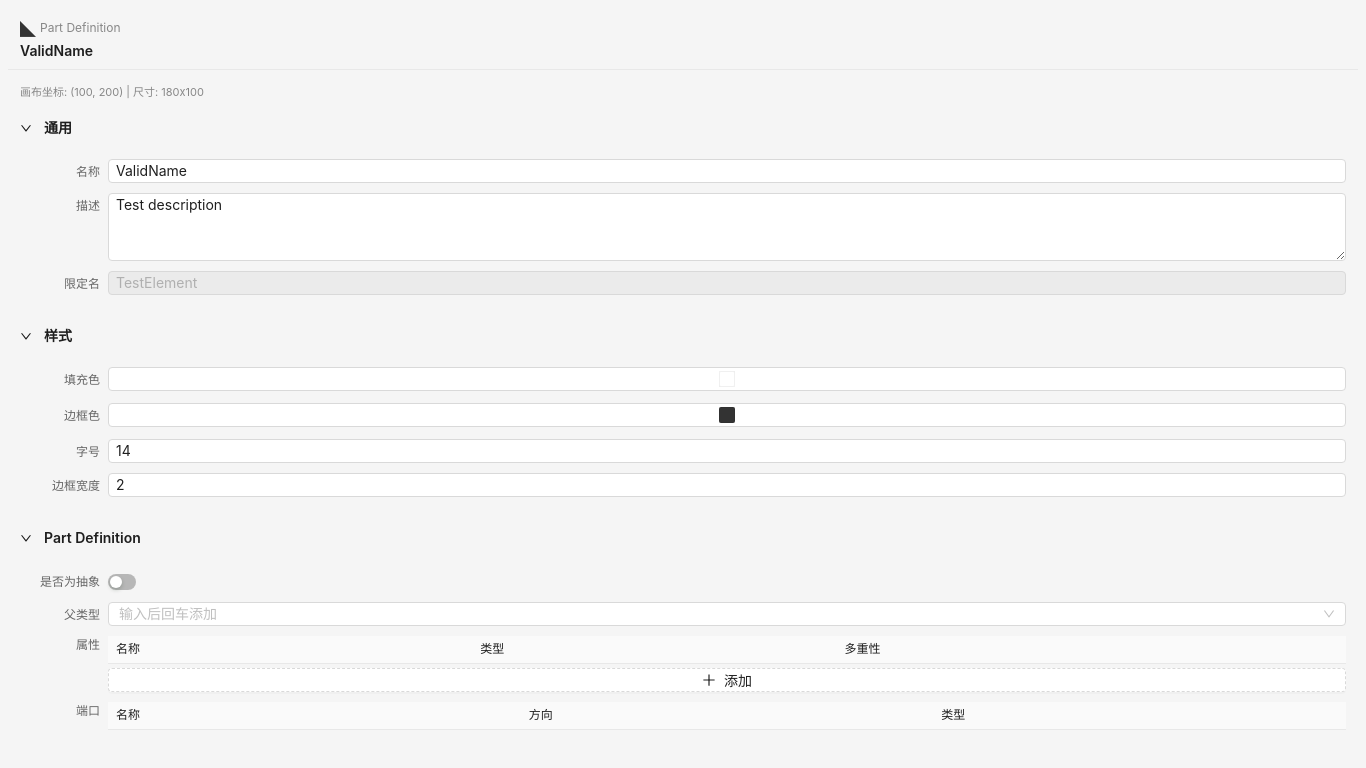
Test: Form Validation › 6.1 empty name should show error
Clear the 1st field showing "ValidName" at [727, 171], box [108, 159, 1346, 183]
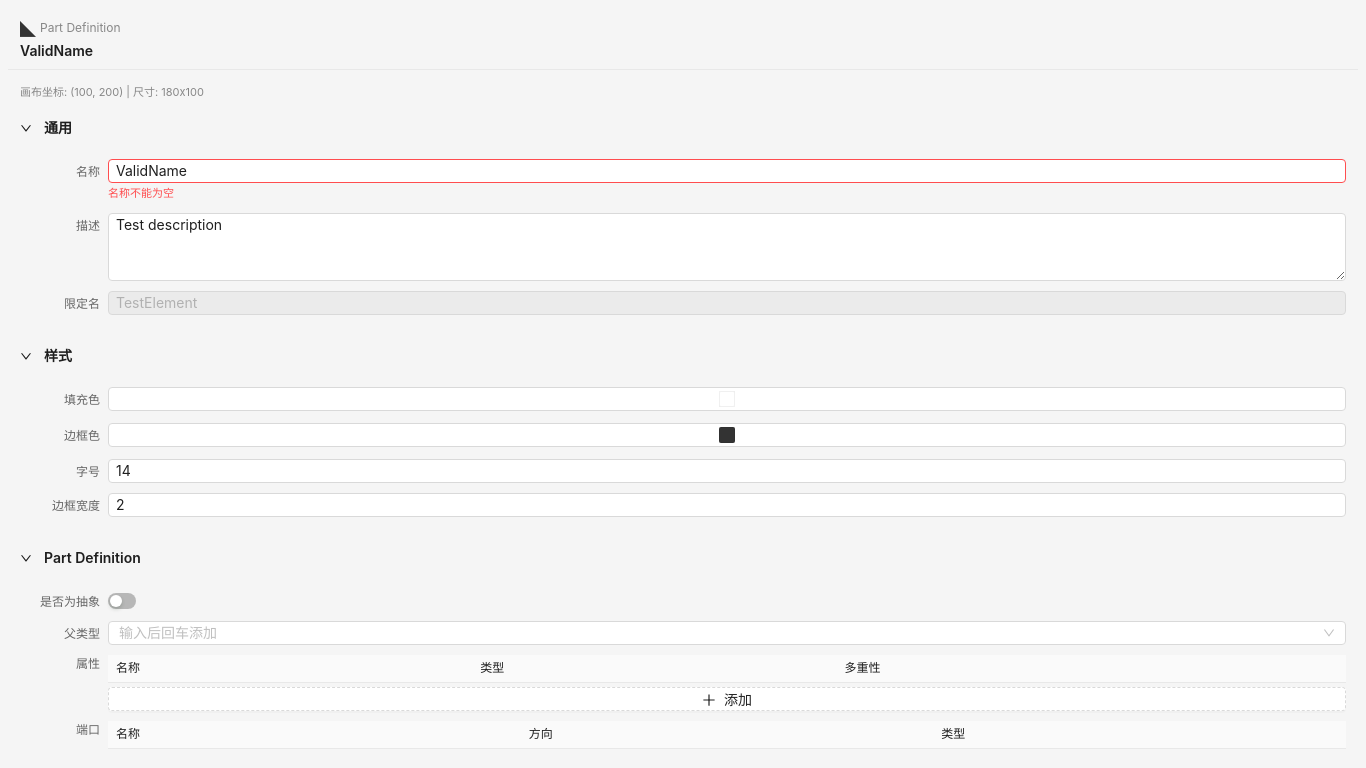
Expected: the text "名称不能为空" is shown, [108, 186, 174, 200]
